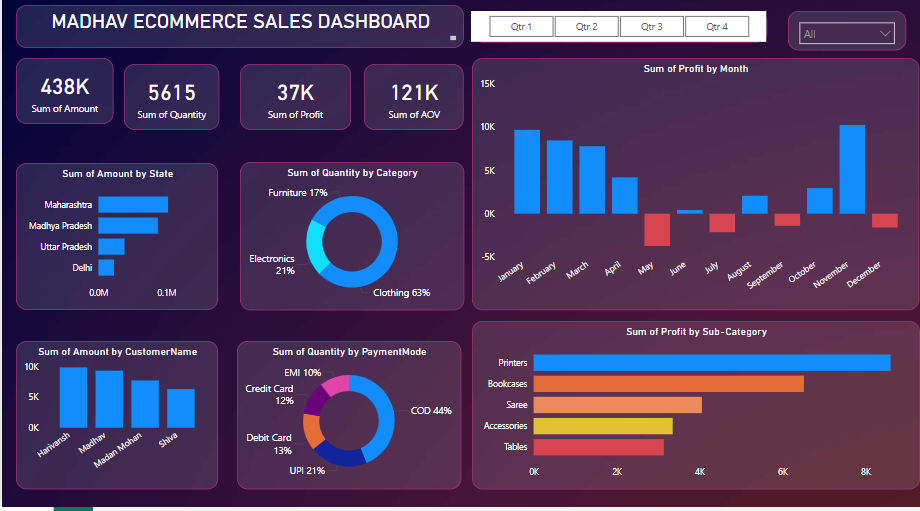

The page's visual inventory and layout, read from the dashboard file:
{"tool":"powerbi","page":{"name":"Page 1","canvas":[1280,720],"ordinal":0},"visuals":[{"type":"textbox","title":"MADHAV ECOMMERCE SALES  DASHBOARD","box":[20.2,20.2,624.9,60.5],"z":0},{"type":"columnChart","fields":{"Y":["Sum(Details.Profit)"],"Category":["Orders.Order Date.Variation.Date Hierarchy.Month"]},"box":[655.8,93.5,623.7,351.6],"z":1000},{"type":"barChart","fields":{"Category":["Details.Sub-Category"],"Y":["Sum(Details.Profit)"]},"box":[655.1,460.3,624.9,235.2],"z":2000},{"type":"donutChart","fields":{"Category":["Details.Category"],"Y":["Sum(Details.Quantity)"]},"box":[332.1,238.6,312.6,206.5],"z":3000},{"type":"donutChart","fields":{"Category":["Details.PaymentMode"],"Y":["Sum(Details.Quantity)"]},"box":[327.9,488.4,312.6,206.5],"z":4000},{"type":"card","fields":{"Values":["Sum(Details.Amount)"]},"box":[20.2,94.1,136.1,92.4],"z":5000},{"type":"card","fields":{"Values":["Sum(Details.Quantity)"]},"box":[169.7,102.5,132.7,92.4],"z":6000},{"type":"card","fields":{"Values":["Sum(Details.Profit)"]},"box":[332.6,102.5,154.5,92.4],"z":7000},{"type":"card","fields":{"Values":["Sum(Details.AOV)"]},"box":[505.6,102.5,139.4,92.4],"z":8000},{"type":"barChart","fields":{"Category":["Orders.State"],"Y":["Sum(Details.Amount)"]},"box":[20.2,240.2,282.2,204.9],"z":9000},{"type":"columnChart","fields":{"Category":["Orders.CustomerName"],"Y":["Sum(Details.Amount)"]},"box":[20,488,282,207],"z":10000},{"type":"slicer","fields":{"Values":["Orders.Order Date.Variation.Date Hierarchy.Quarter"]},"box":[655.1,28.6,411.5,43.7],"z":11000},{"type":"slicer","fields":{"Values":["Orders.Order Date.Variation.Date Hierarchy.Quarter"]},"box":[665.1,38.6,411.5,43.7],"z":12000},{"type":"slicer","fields":{"Values":["Orders.State"]},"box":[1096.9,28.6,164.6,55.4],"z":13000}]}

Visuals, with their boxes in screenshot pixels (x1, y1, x2, y2), scaled from the page's 1280x720 canvas onto the 920x511 screenshot:
"MADHAV ECOMMERCE SALES  DASHBOARD" textbox: (x1=15, y1=14, x2=464, y2=57)
columnChart - Sum(Details.Profit) x Orders.Order Date.Variation.Date Hierarchy.Month: (x1=471, y1=66, x2=919, y2=316)
barChart - Details.Sub-Category x Sum(Details.Profit): (x1=471, y1=327, x2=919, y2=494)
donutChart - Details.Category x Sum(Details.Quantity): (x1=239, y1=169, x2=463, y2=316)
donutChart - Details.PaymentMode x Sum(Details.Quantity): (x1=236, y1=347, x2=460, y2=493)
card - Sum(Details.Amount): (x1=15, y1=67, x2=112, y2=132)
card - Sum(Details.Quantity): (x1=122, y1=73, x2=217, y2=138)
card - Sum(Details.Profit): (x1=239, y1=73, x2=350, y2=138)
card - Sum(Details.AOV): (x1=363, y1=73, x2=464, y2=138)
barChart - Orders.State x Sum(Details.Amount): (x1=15, y1=170, x2=217, y2=316)
columnChart - Orders.CustomerName x Sum(Details.Amount): (x1=14, y1=346, x2=217, y2=493)
slicer - Orders.Order Date.Variation.Date Hierarchy.Quarter: (x1=471, y1=20, x2=767, y2=51)
slicer - Orders.Order Date.Variation.Date Hierarchy.Quarter: (x1=478, y1=27, x2=774, y2=58)
slicer - Orders.State: (x1=788, y1=20, x2=907, y2=60)
